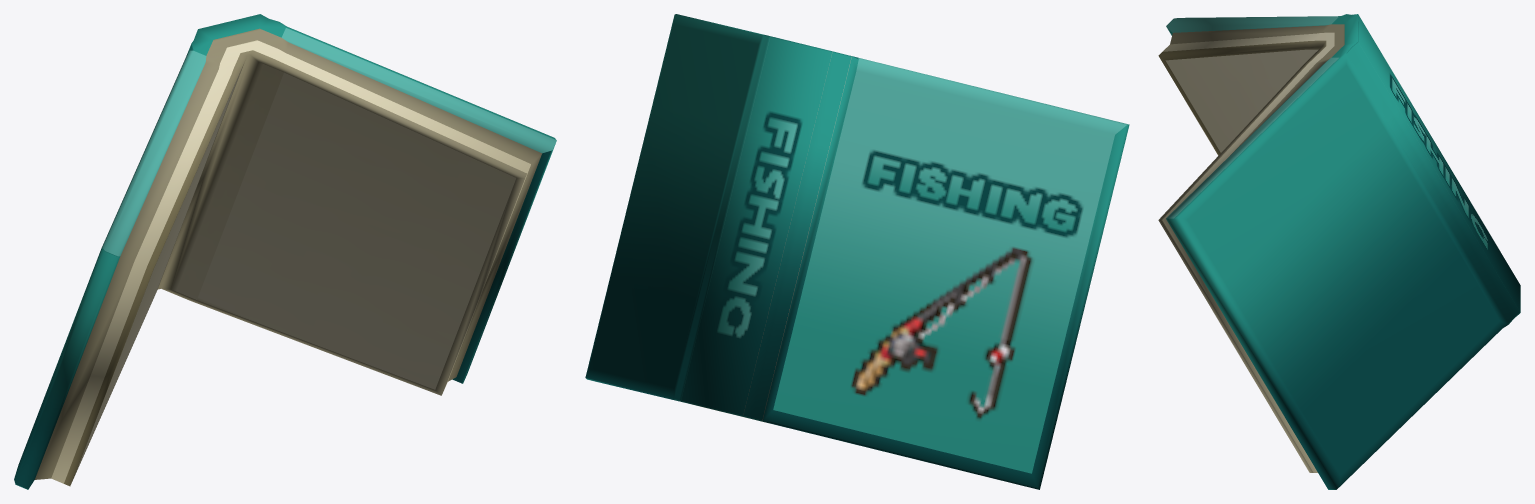
Rendered from HCBookOpen.fbx.
3 renders of one model, left to right at view 1: azimuth 30°, elevation 25°; view 2: azimuth 150°, elevation 25°; view 3: azimuth 270°, elevation 25°, orthographic. The views are drawn at different scales.
Parts seen in each view (by area): view 1: Cube.247; view 2: Cube.247; view 3: Cube.247.
Part boxes in pixels (x1,y1,x2,y2): Cube.247: (14, 14, 556, 489); Cube.247: (585, 14, 1129, 489); Cube.247: (1158, 14, 1520, 489).
Bounding box in the file's own units: 0.2469 × 0.2106 × 0.1889.
